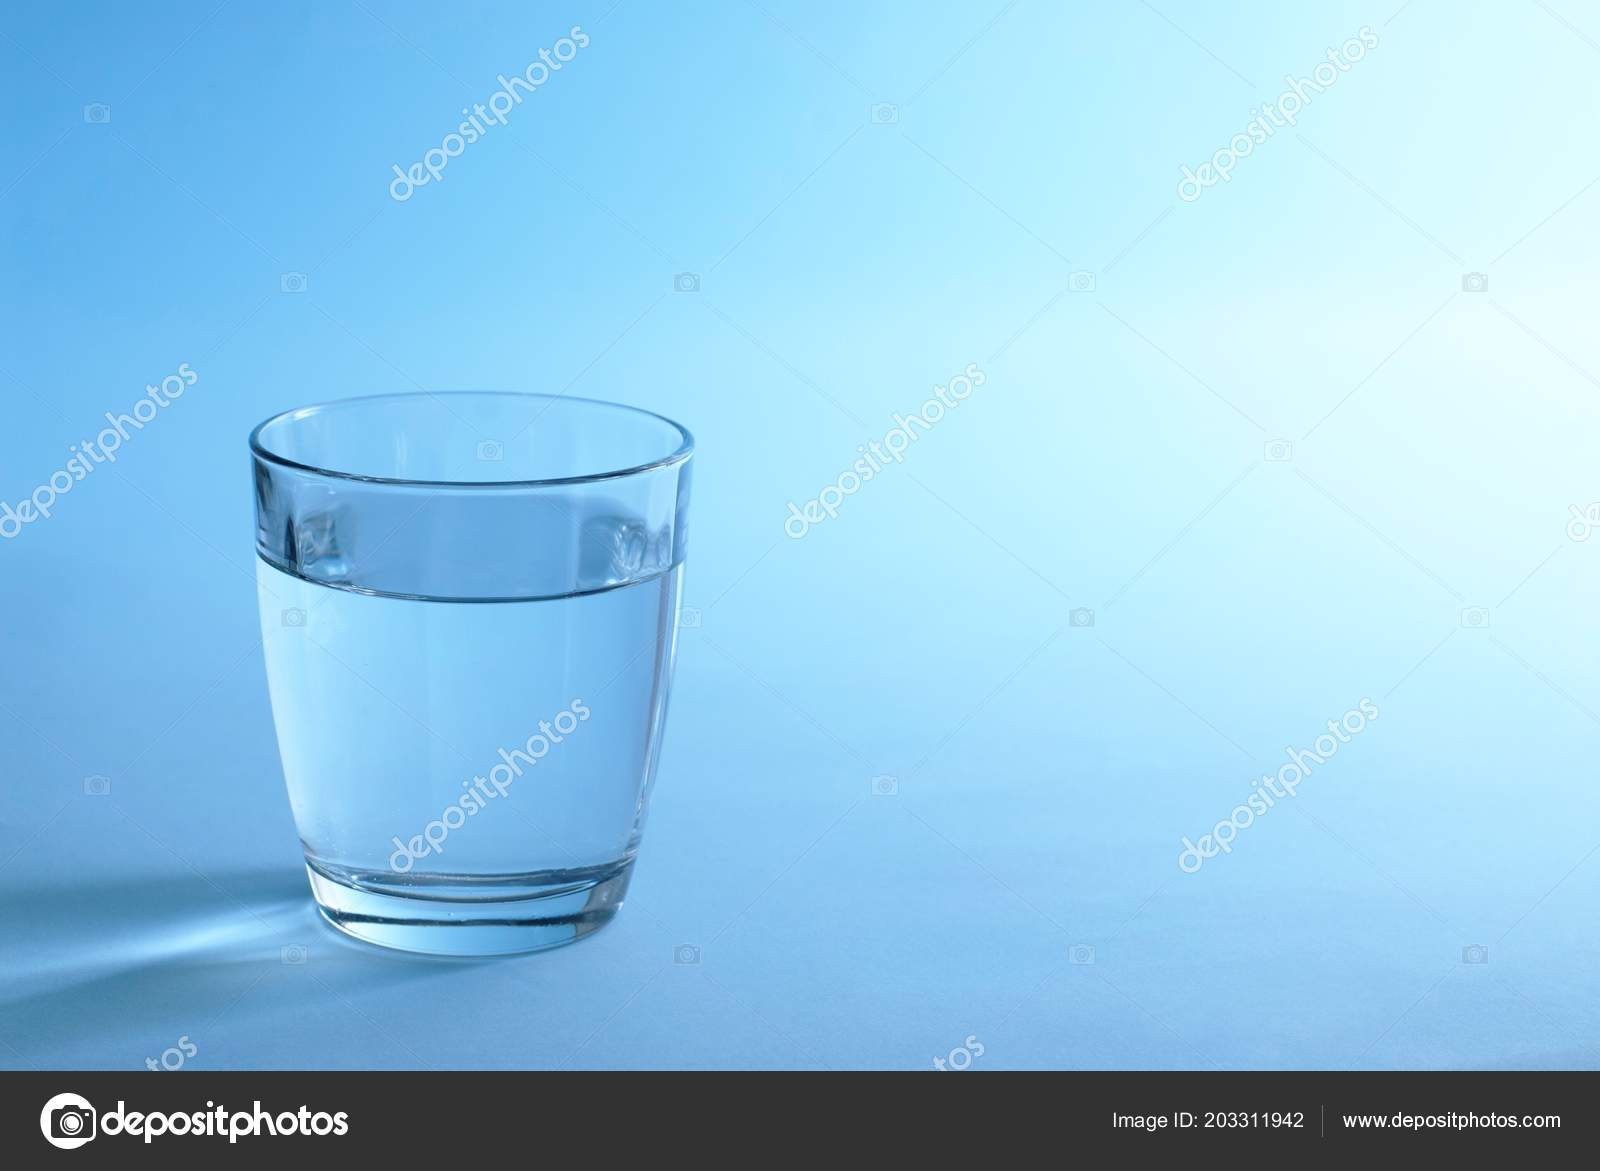glass of water: (276, 417, 665, 941)
